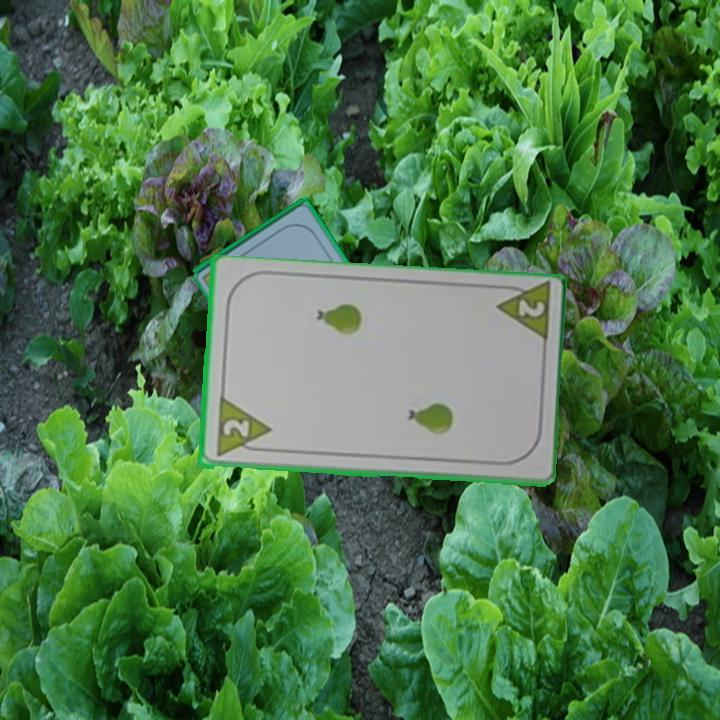2p: (212, 395, 273, 461), (514, 296, 547, 321)
